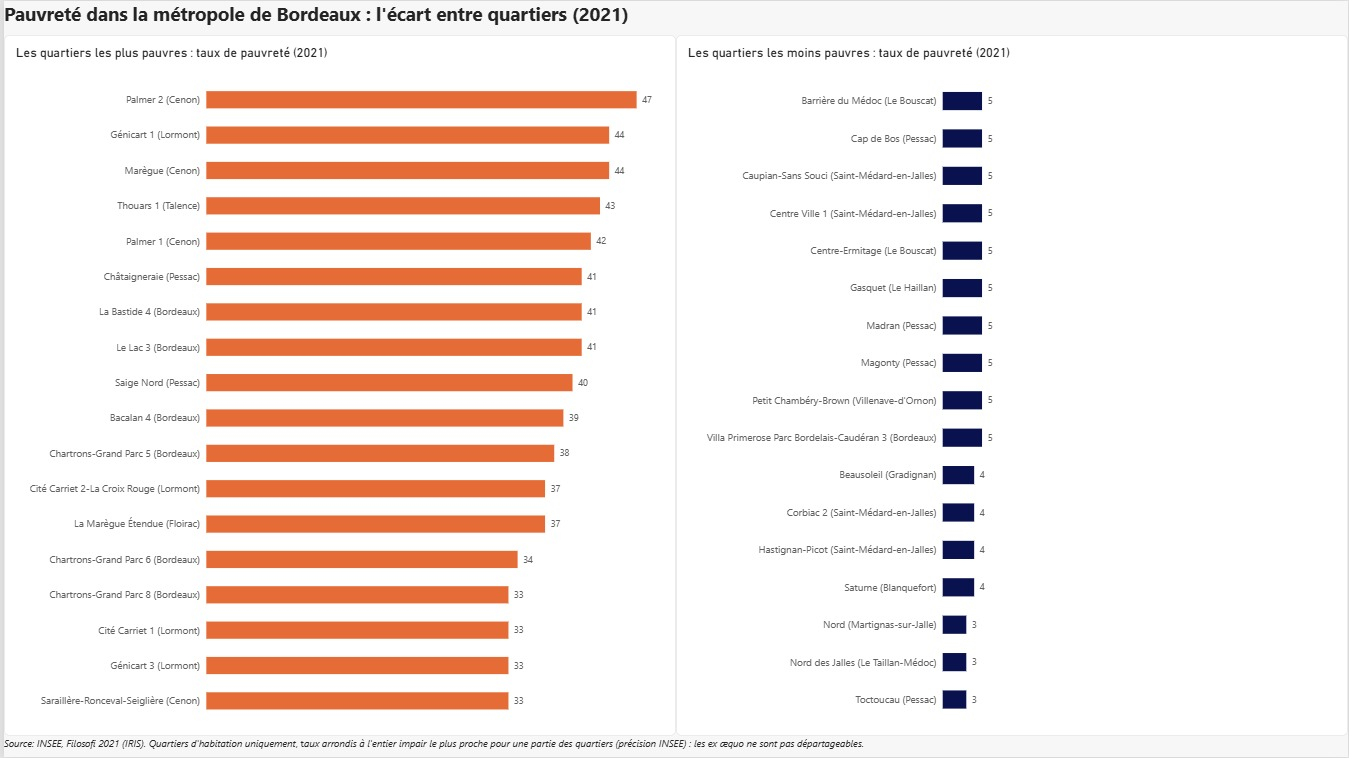

The dashboard page shown, as its layout file describes it:
{"tool":"powerbi","page":{"name":"Les quartiers","canvas":[1920,1080],"ordinal":1},"visuals":[{"type":"clusteredBarChart","title":"Les quartiers les plus pauvres : taux de pauvreté (2021)","fields":{"Category":["IRIS_2021.Quartier_Commune"],"Y":["IRIS_2021.Taux de pauvreté IRIS (%)"]},"box":[0,48.6,960,1001.4],"z":0},{"type":"clusteredBarChart","title":"Les quartiers les moins pauvres : taux de pauvreté (2021)","fields":{"Category":["IRIS_2021.Quartier_Commune"],"Y":["IRIS_2021.Taux de pauvreté IRIS (%)"]},"box":[960,48.6,960,1001.4],"z":1000},{"type":"textbox","box":[0,1050,1746,30],"z":2000},{"type":"textbox","box":[0,0,1745.7,48.6],"z":3000}]}

Visuals, with their boxes in screenshot pixels (x1, y1, x2, y2), scaled from the page's 1920x1080 canvas onto the 1349x758 screenshot:
"Les quartiers les plus pauvres : taux de pauvreté (2021)" clusteredBarChart: 0 34 674 737
"Les quartiers les moins pauvres : taux de pauvreté (2021)" clusteredBarChart: 674 34 1348 737
textbox: 0 737 1227 757
textbox: 0 0 1227 34
